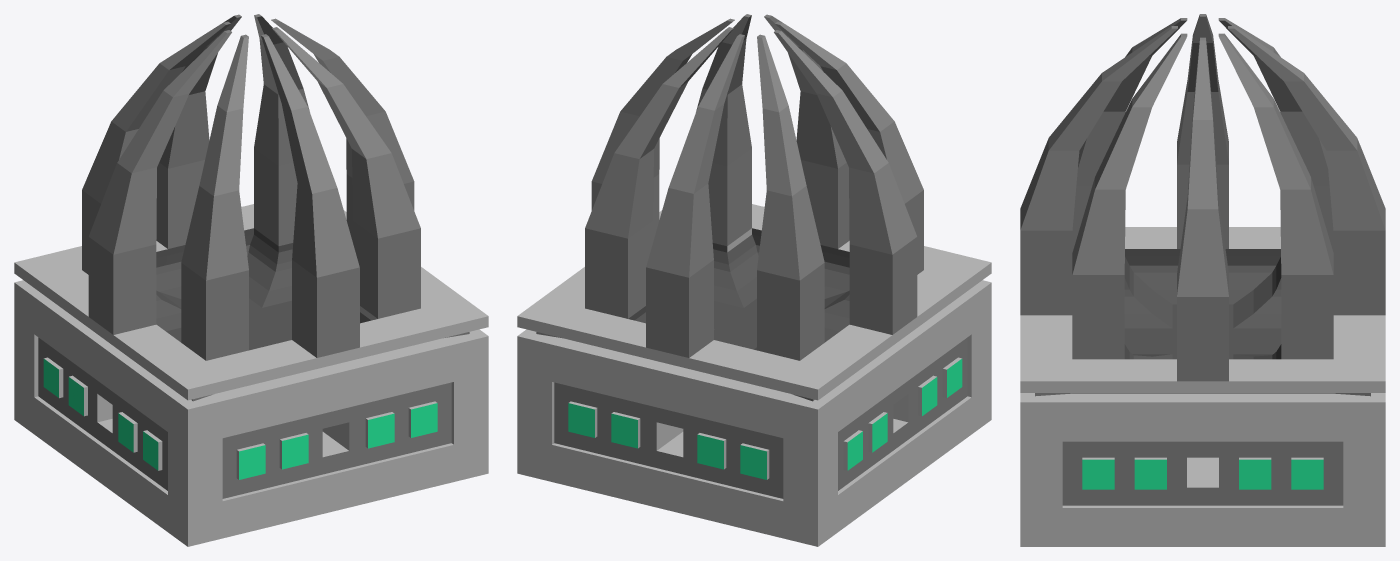
File: Manufacturer.fbx
3 renders of one model, left to right at view 1: azimuth 30°, elevation 25°; view 2: azimuth 150°, elevation 25°; view 3: azimuth 270°, elevation 25°, orthographic. The views are drawn at different scales.
Parts seen in each view (by area): view 1: Manufacturer_LOD0; view 2: Manufacturer_LOD0; view 3: Manufacturer_LOD0.
Part boxes in pixels (x1,y1,x2,y2): Manufacturer_LOD0: [14, 14, 488, 546]; Manufacturer_LOD0: [517, 14, 991, 546]; Manufacturer_LOD0: [1020, 14, 1385, 546].
Size of what is drawn, in the model's own units: 200 by 267 by 200.
